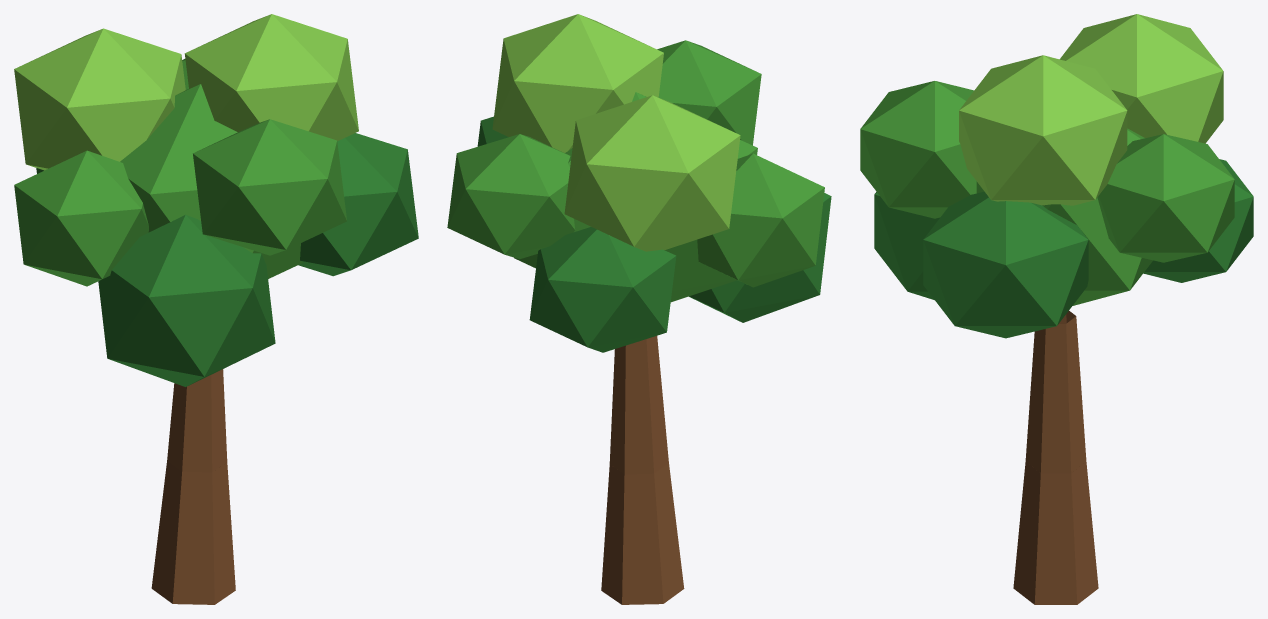
Rendered from tree-green-lo.glb.
3 renders of one model, left to right at view 1: azimuth 30°, elevation 25°; view 2: azimuth 150°, elevation 25°; view 3: azimuth 270°, elevation 25°, orthographic. The views are drawn at different scales.
Parts seen in each view (by area): view 1: GreenLo_Crown, GreenLo_Trunk; view 2: GreenLo_Crown, GreenLo_Trunk; view 3: GreenLo_Crown, GreenLo_Trunk.
Boxes of the visible parts, x1,y1,x2,y2 form: GreenLo_Crown: (14,14,418,386); GreenLo_Trunk: (151,369,235,604); GreenLo_Crown: (447,14,831,352); GreenLo_Trunk: (601,336,684,604); GreenLo_Crown: (860,14,1253,338); GreenLo_Trunk: (1013,311,1098,604).
Size of the model in its own units: 2.08 by 3.1 by 1.94.
